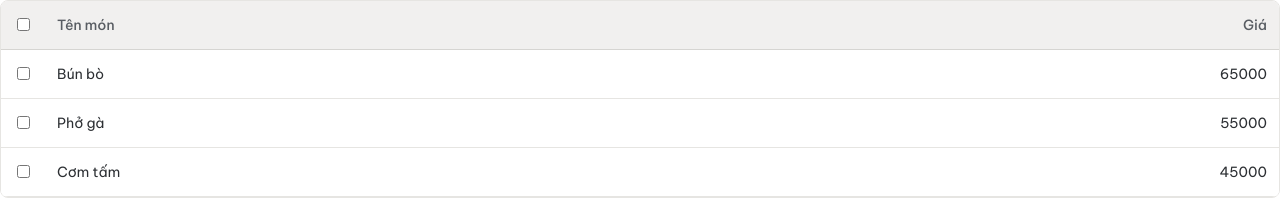
Test: DataTable — row selection › select-all checkbox checks all rows
The image size is (1280, 215).
Click the checkbox named "Chọn tất cả".
click(24, 24)  # box [17,18,30,31]
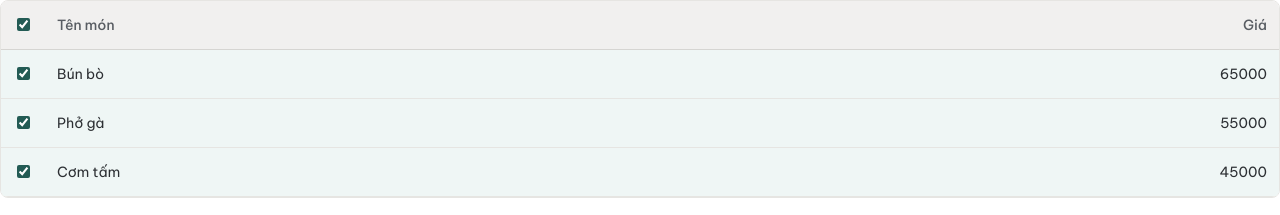
Expected: the checkbox named "Chọn hàng" next to "Bún bò" is checked, [17,66,30,80]
Expected: the checkbox named "Chọn hàng" next to "Phở gà" is checked, [17,116,30,128]
Expected: the checkbox named "Chọn hàng" next to "Cơm tấm" is checked, [17,164,30,178]
